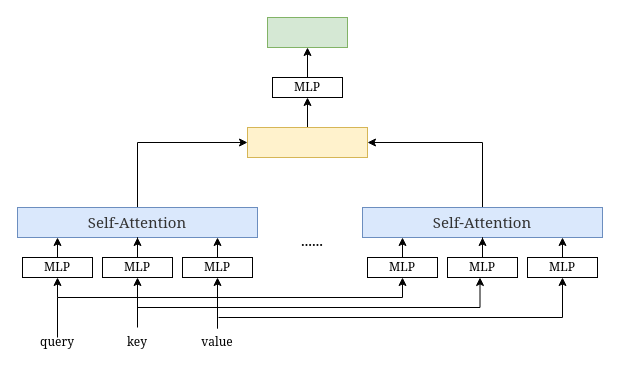
Image size: 620x375. Some labels were removed from this diagram. Each missing label, with the centre of its shape:
"concat" goes at point (307, 142).
"output" goes at point (307, 32).
